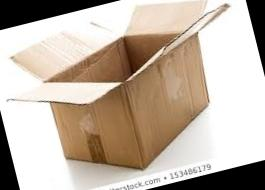cardboard: (0, 0, 260, 185)
